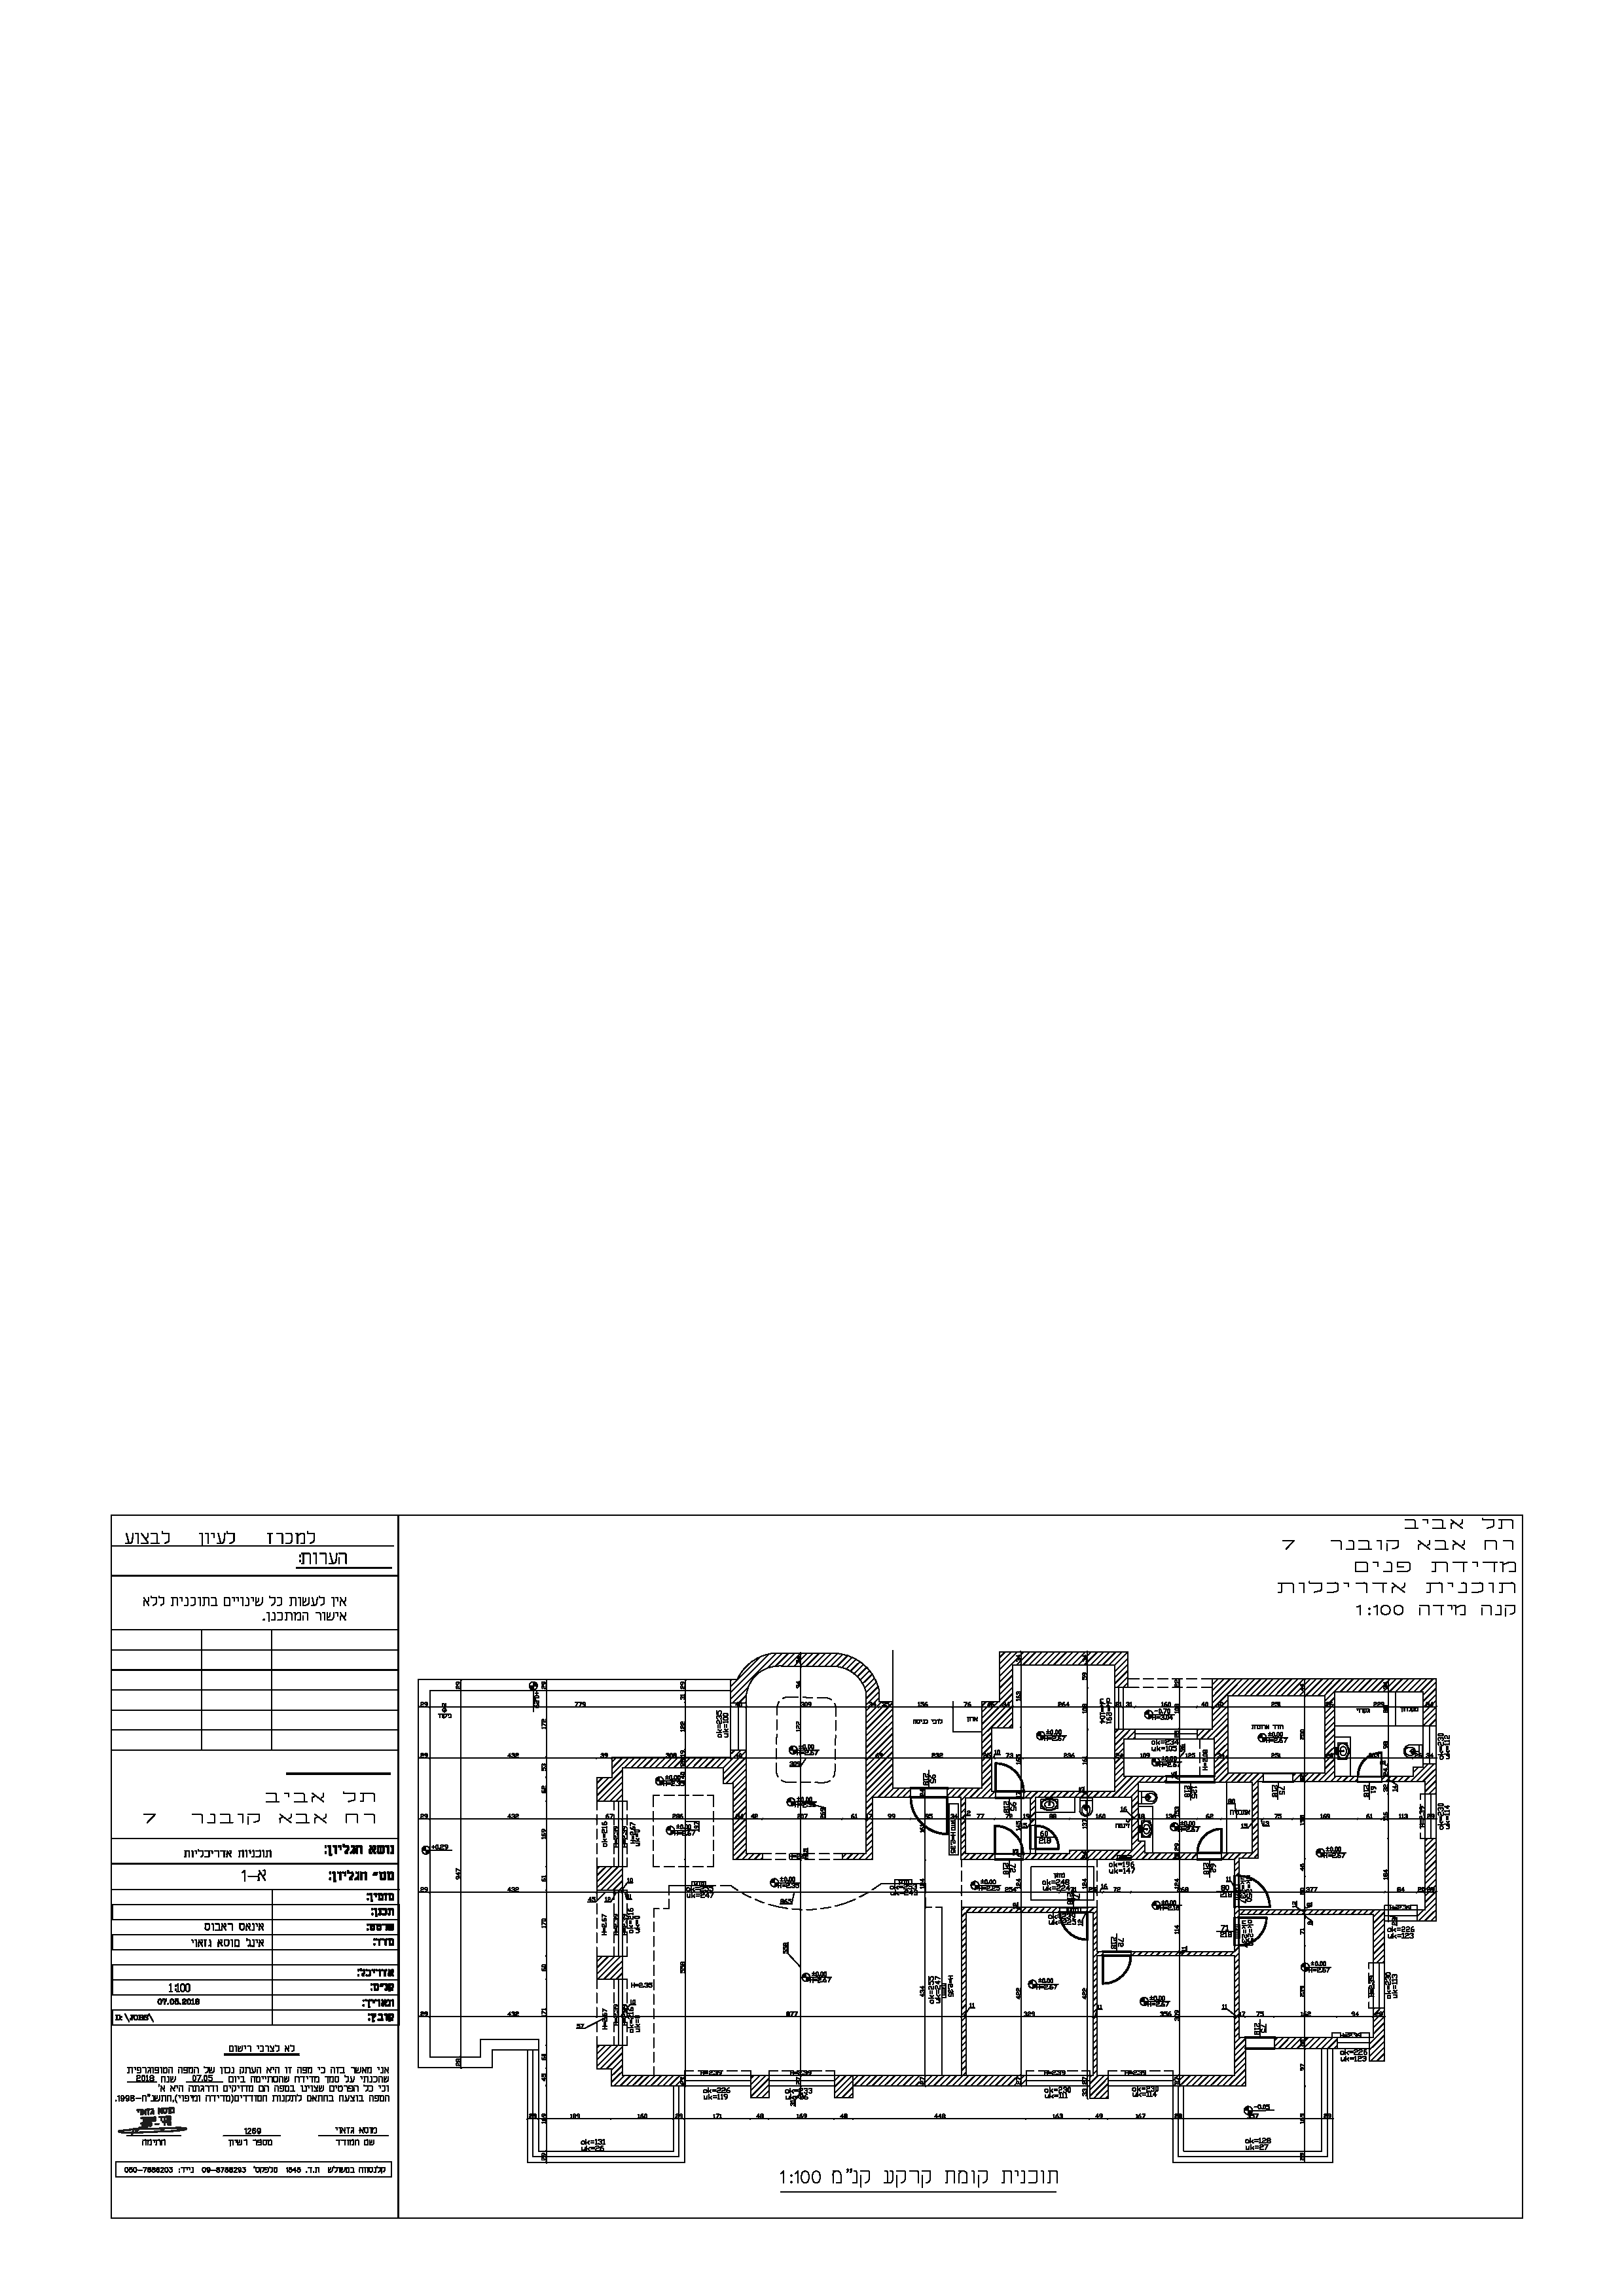door: (905, 1792, 960, 1845), (1091, 1946, 1146, 1999), (981, 1757, 1035, 1809), (1049, 1895, 1102, 1948), (1193, 1823, 1234, 1864), (988, 1822, 1026, 1864), (1032, 1822, 1067, 1860), (1239, 1873, 1274, 1908), (1239, 1915, 1269, 1950), (1357, 1748, 1387, 1774)
wall: (991, 1644, 1134, 1672), (866, 1700, 893, 1797), (1211, 1678, 1336, 1695), (852, 2075, 1026, 2087), (612, 1757, 749, 1769), (1336, 1678, 1436, 1692), (1213, 1693, 1227, 1785), (1174, 2073, 1246, 2085), (610, 2075, 682, 2087)
window: (768, 2069, 835, 2087), (613, 1978, 629, 2047), (613, 1888, 629, 1957), (685, 2069, 750, 2085), (613, 1801, 627, 1867), (1418, 1792, 1436, 1839), (1367, 1962, 1385, 2008), (1109, 2075, 1174, 2085), (1026, 2075, 1090, 2085), (731, 1702, 745, 1750), (1338, 2036, 1369, 2048)
